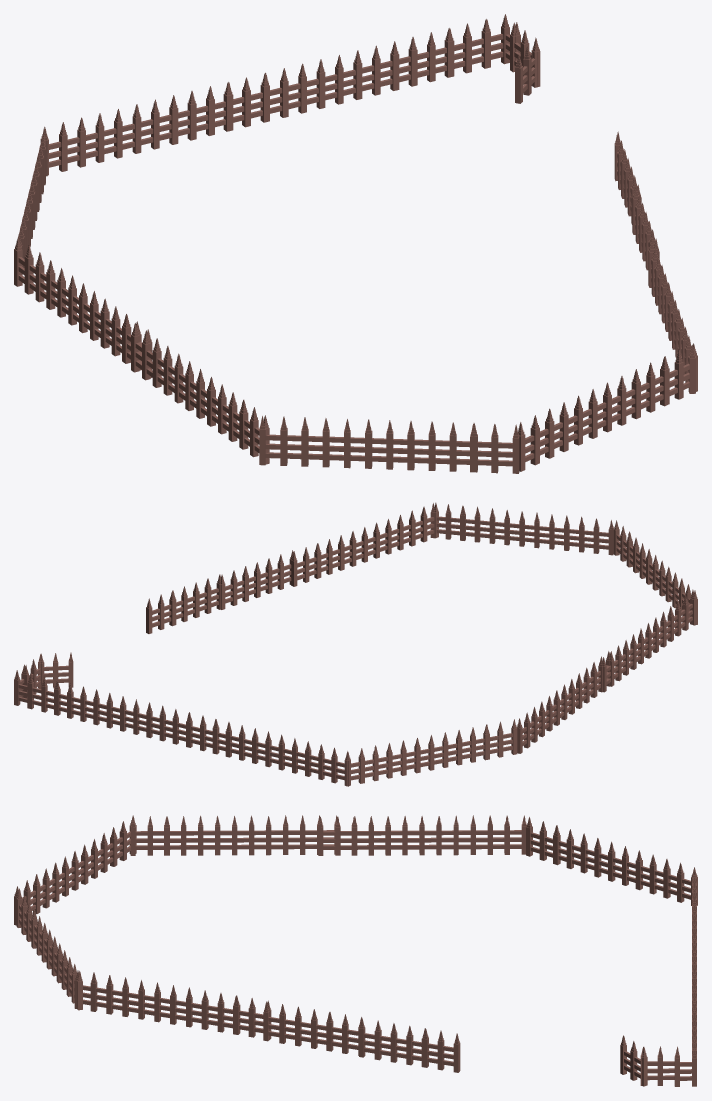
File: Barriere.fbx
3 views of the same model, one above another, from view 1: azimuth 30°, elevation 25°; view 2: azimuth 150°, elevation 25°; view 3: azimuth 270°, elevation 25° (orthographic). The views are drawn at different scales.
Parts seen in each view (by area): view 1: Barriere, Barriere__5_, Barriere__1__8, Barriere__1__3, Barriere__1__58, Barriere__2__2, Barriere__1__51, Barriere__1__2, Barriere__2__13, Barriere__1__55, Barriere__1__56, Barriere__1__14 (+24 smaller); view 2: Barriere, Barriere__6_, Barriere__1__65; view 3: Barriere, Barriere__3_, Barriere__1__84, Barriere__2__8, Barriere__1__29, Barriere__2__7, Barriere__1__44, Barriere__2__10, Barriere__1__74, Barriere__1__81, Barriere__1__33, Barriere__1__40 (+35 smaller).
Part boxes in pixels (box(x1,y1,x2,y2)): Barriere: box(40, 41, 691, 382); Barriere__5_: box(259, 416, 287, 465); Barriere__1__8: box(463, 19, 490, 73); Barriere__1__3: box(353, 46, 380, 99); Barriere__1__58: box(491, 424, 519, 473); Barriere__2__2: box(114, 104, 141, 158); Barriere__1__51: box(301, 417, 329, 467); Barriere__1__2: box(316, 55, 343, 108); Barriere__2__13: box(470, 423, 498, 473); Barriere__1__55: box(407, 421, 435, 470); Barriere__1__56: box(428, 421, 456, 471); Barriere__1__14: box(151, 95, 178, 149); Barriere: box(93, 506, 427, 786); Barriere__6_: box(593, 518, 613, 555); Barriere__1__65: box(474, 507, 495, 543); Barriere: box(90, 863, 697, 1060); Barriere__3_: box(504, 815, 526, 854); Barriere__1__84: box(437, 1030, 460, 1072); Barriere__2__8: box(436, 816, 458, 855); Barriere__1__29: box(566, 829, 587, 873); Barriere__2__7: box(539, 821, 560, 865); Barriere__1__44: box(232, 816, 254, 855); Barriere__2__10: box(249, 816, 271, 855); Barriere__1__74: box(201, 990, 224, 1032); Barriere__1__81: box(374, 1021, 397, 1062); Barriere__1__33: box(470, 815, 492, 854); Barriere__1__40: box(318, 816, 340, 855).
Bounding box in the file's own units: 5.3 × 0.4069 × 6.53.
